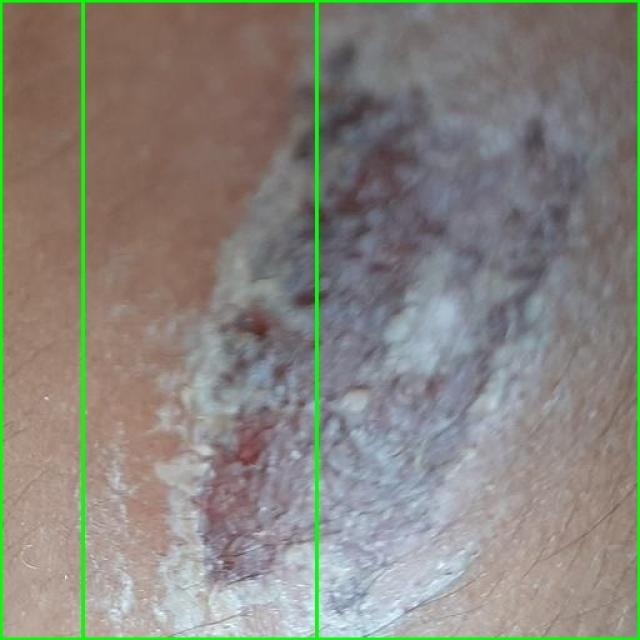Atopic Dermatitis: (82, 0, 639, 639), (0, 0, 316, 639)
